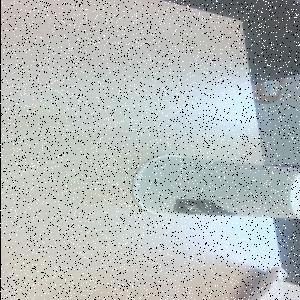Cup: (132, 156, 300, 220), (240, 263, 300, 300)
